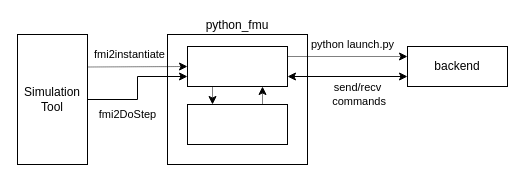
Image size: 525x182. Some labels were removed from this diagram. Here are the shapes that lost their labels. From the top down, the box of each, then its label:
(186, 46, 288, 86): unifmu.so
(186, 104, 288, 144): launch.toml
